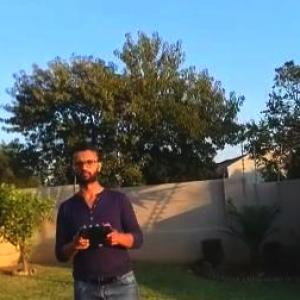follow: (48, 128, 151, 298)
